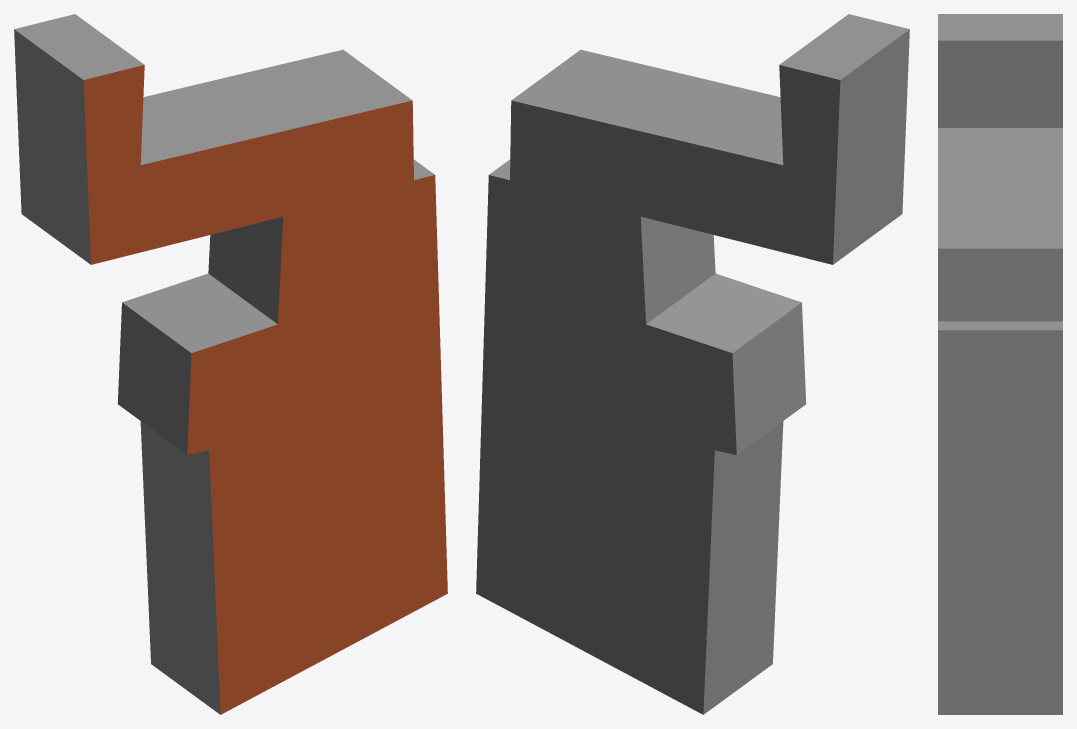
The model's file is construction_2175_assumed_A_Casa_h6m.obj.
3 views of the same model, side by side, from view 1: azimuth 30°, elevation 25°; view 2: azimuth 150°, elevation 25°; view 3: azimuth 270°, elevation 25° (orthographic). The views are drawn at different scales.
Parts seen in each view (by area): view 1: construction_2175_assumed_A_Casa; view 2: construction_2175_assumed_A_Casa; view 3: construction_2175_assumed_A_Casa.
Boxes of the visible parts, x1=… form: construction_2175_assumed_A_Casa: x1=14, y1=14, x2=447, y2=714; construction_2175_assumed_A_Casa: x1=476, y1=14, x2=909, y2=714; construction_2175_assumed_A_Casa: x1=938, y1=14, x2=1062, y2=714.
Bounding box in the file's own units: 18.16 × 31.84 × 6.
